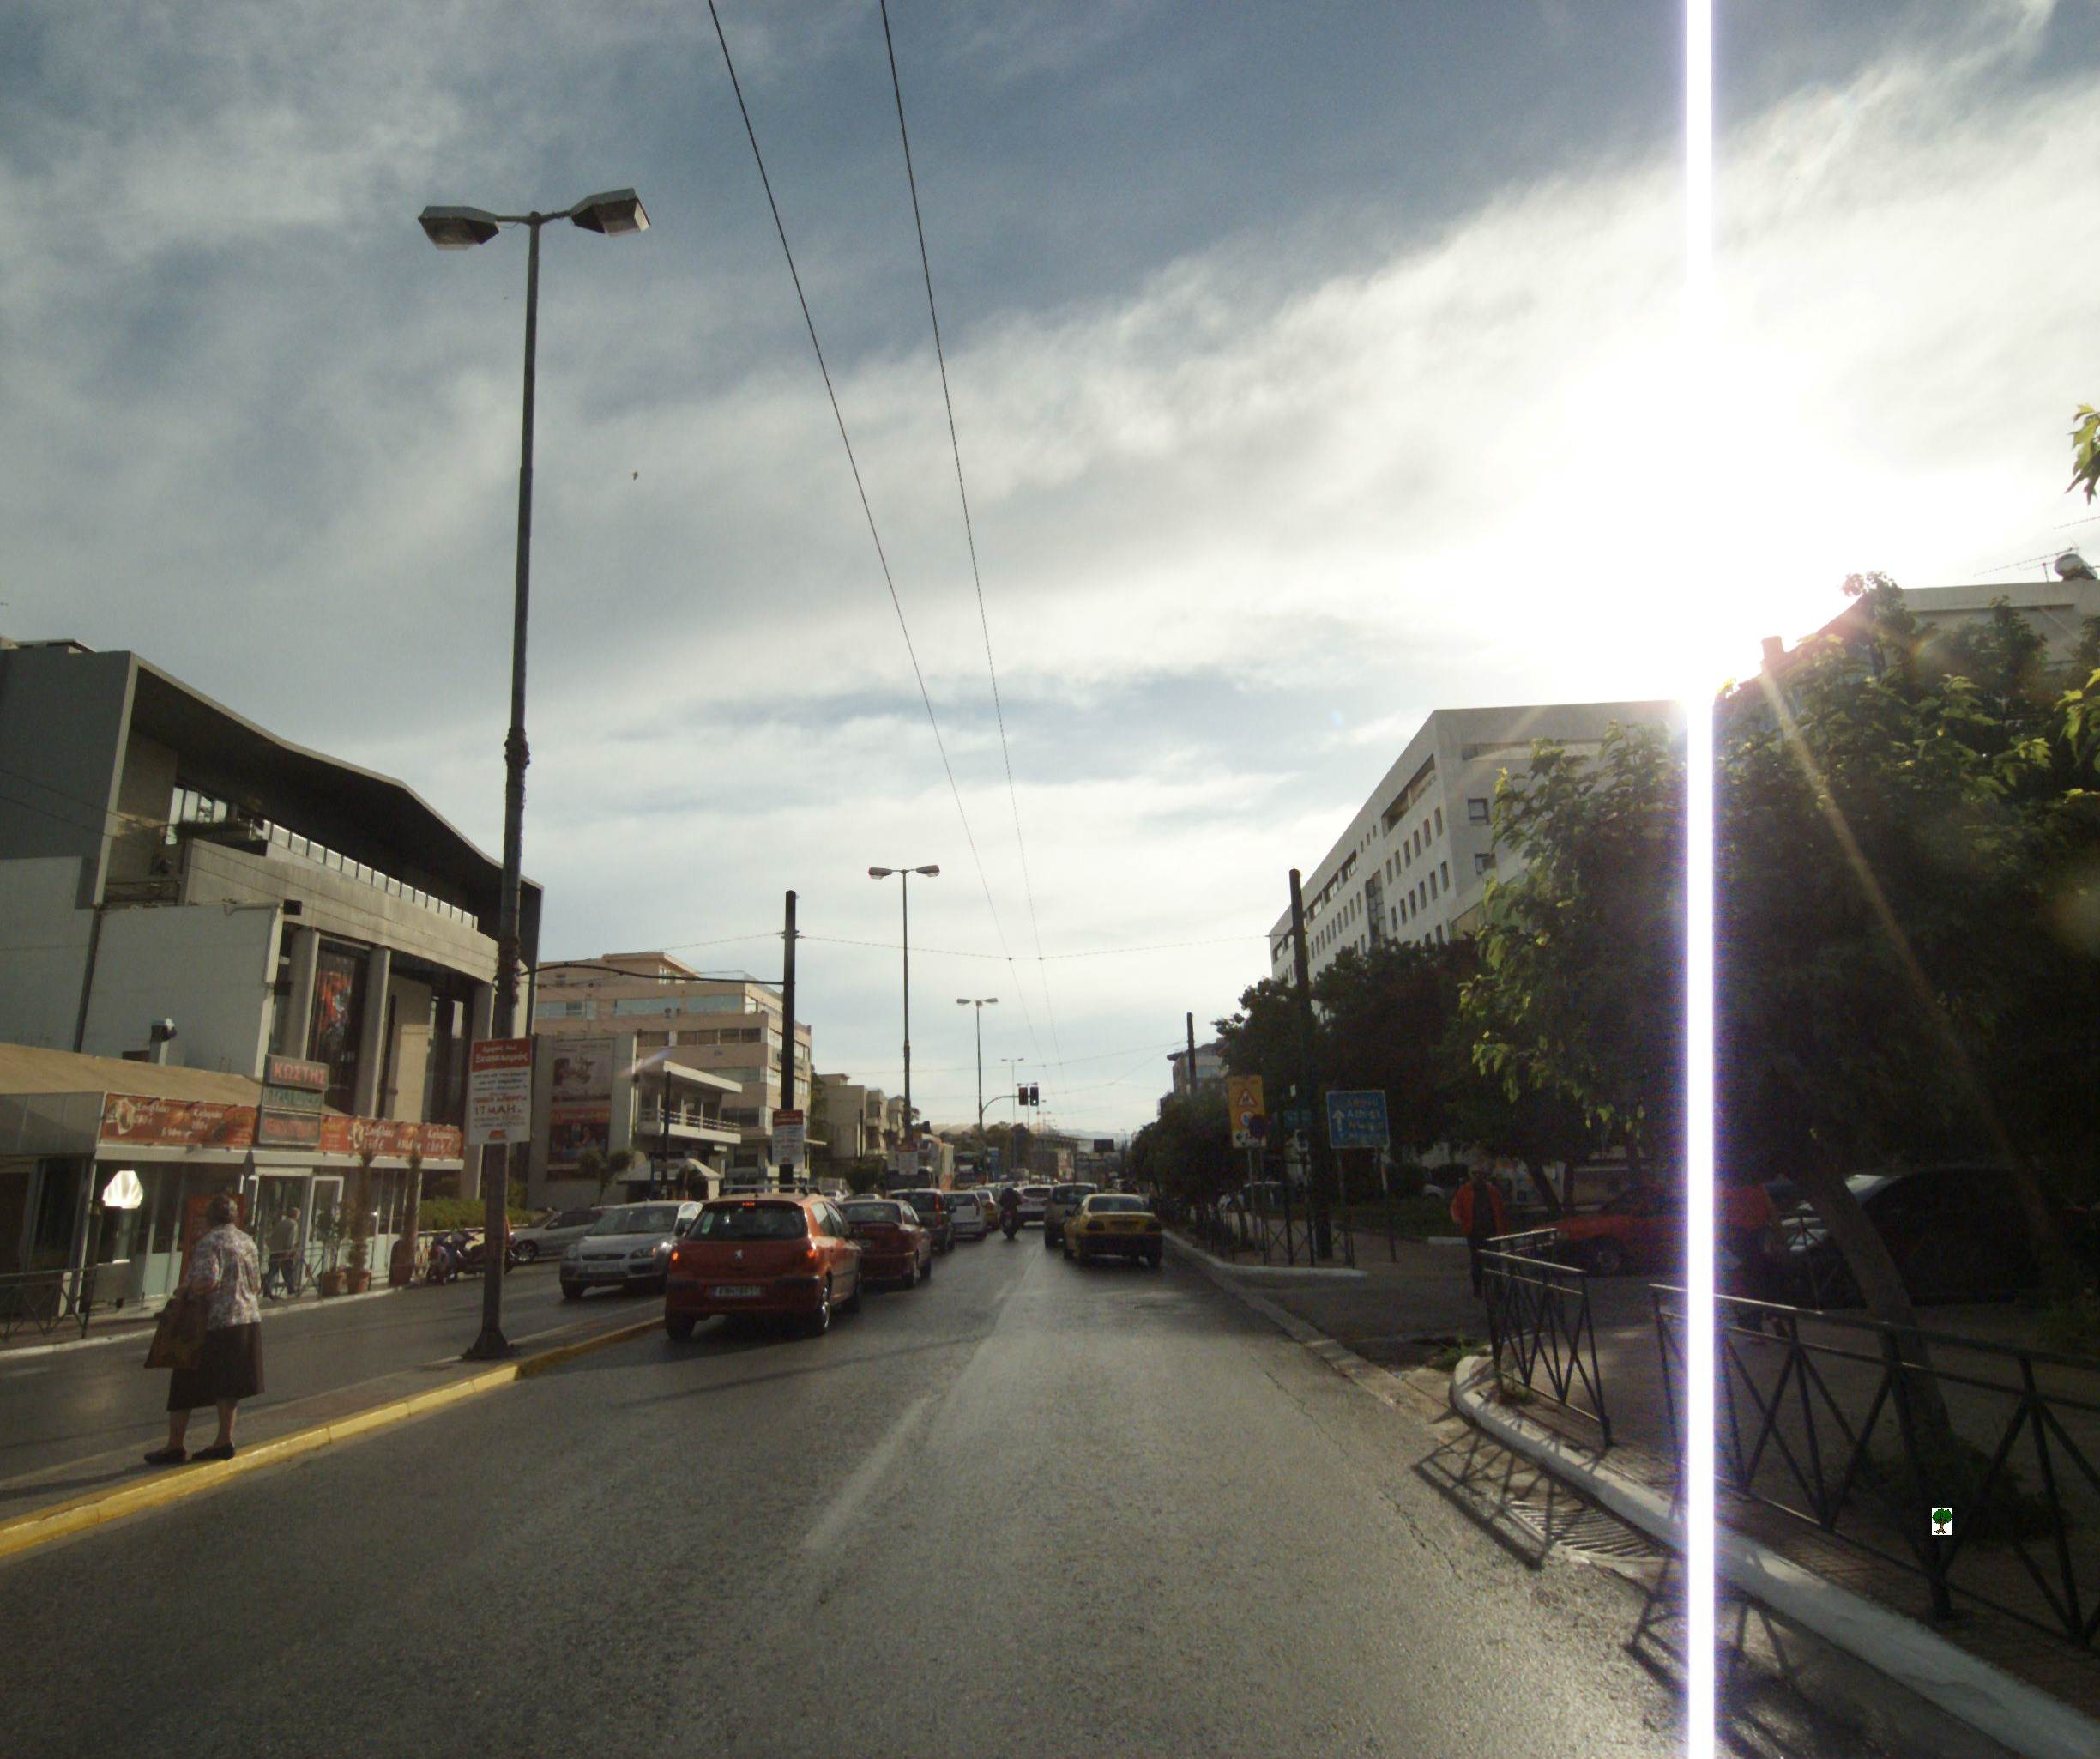tree: (1519, 569, 2100, 1586)
